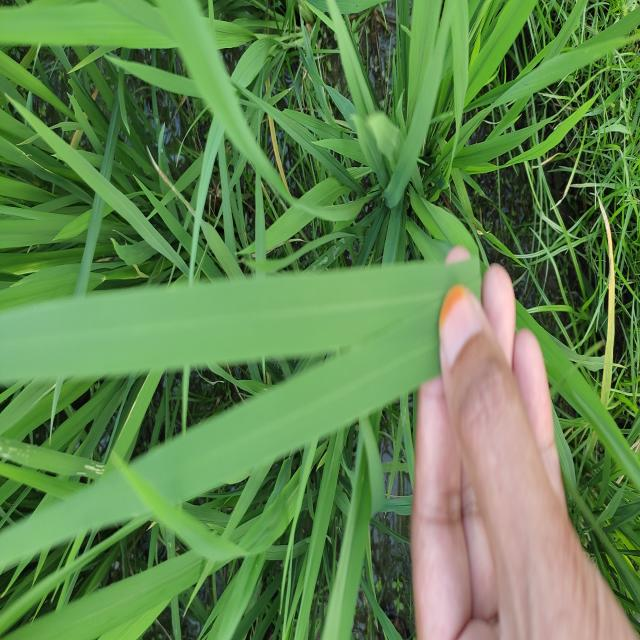HealthyLeaf: (1, 267, 438, 563)
